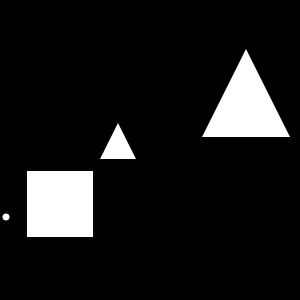circle: (27, 171, 93, 237)
rectangle: (2, 214, 10, 221)
triangle: (202, 49, 290, 137), (100, 123, 136, 159)
